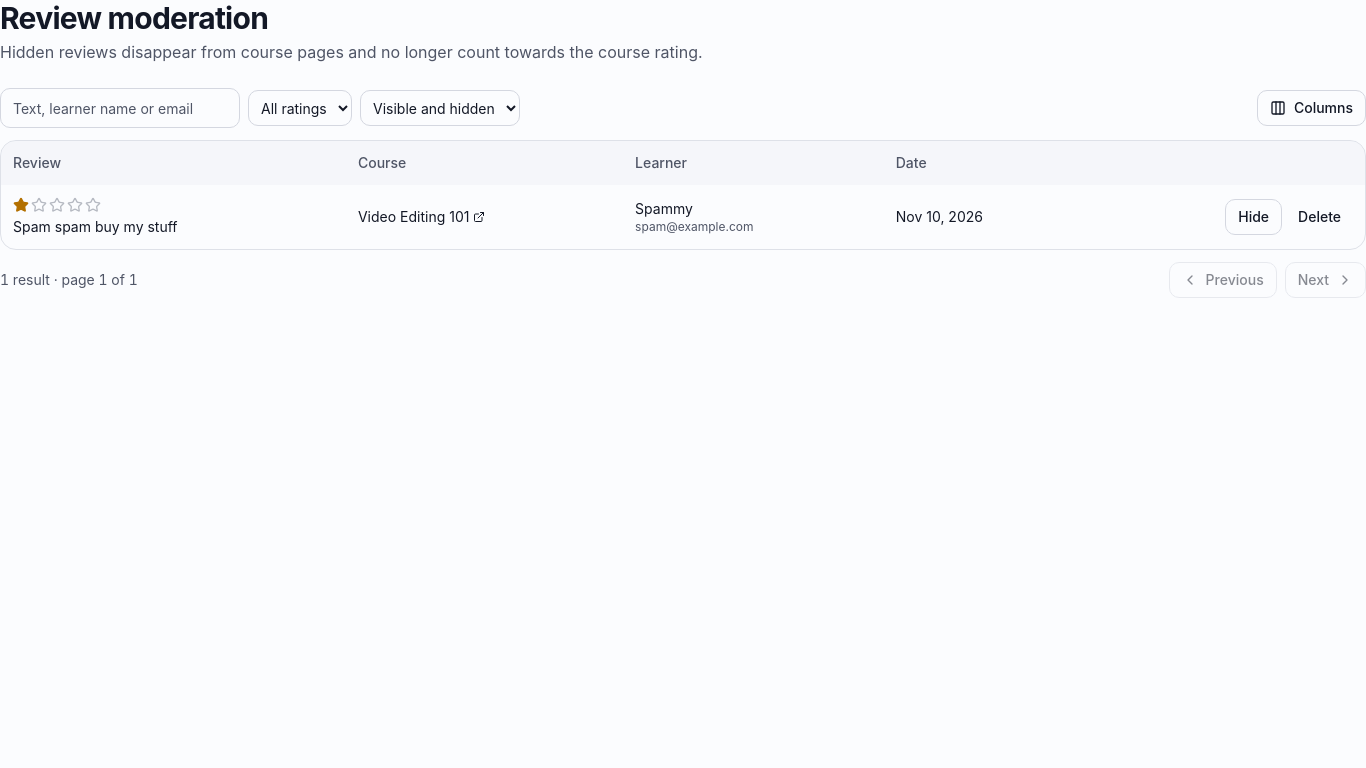
Test: review moderation › requires a reason before hiding a review
Later steps or results of the test are not shown.
Expected: the text "Spam spam buy my stuff" is shown, [13, 218, 178, 235]
What coordinates should you click on to do the following:
click the button "Hide"
I would click on:
 (1254, 217)
Its box is [1225, 199, 1282, 235].
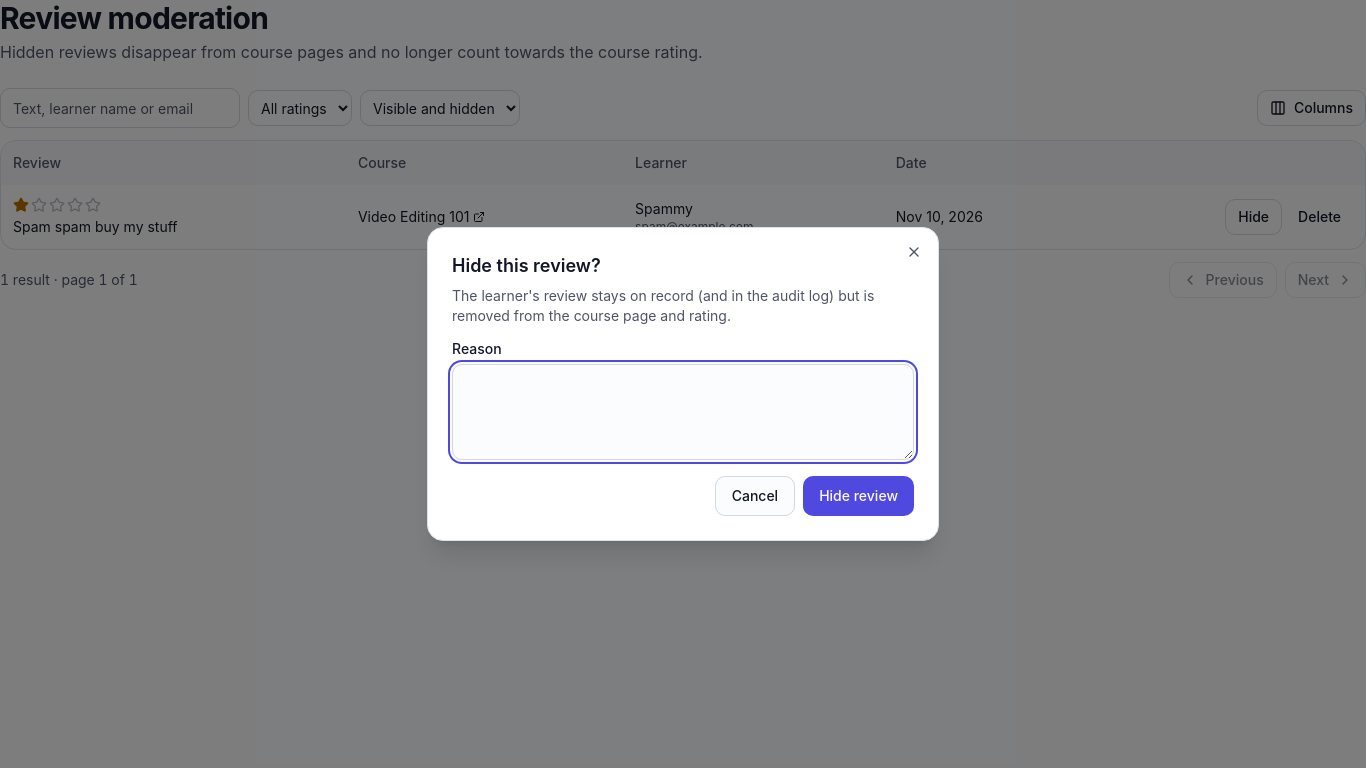
What coordinates should you click on to do the following:
click the button "Hide review"
I would click on:
 (859, 496)
Its box is [803, 476, 914, 516].
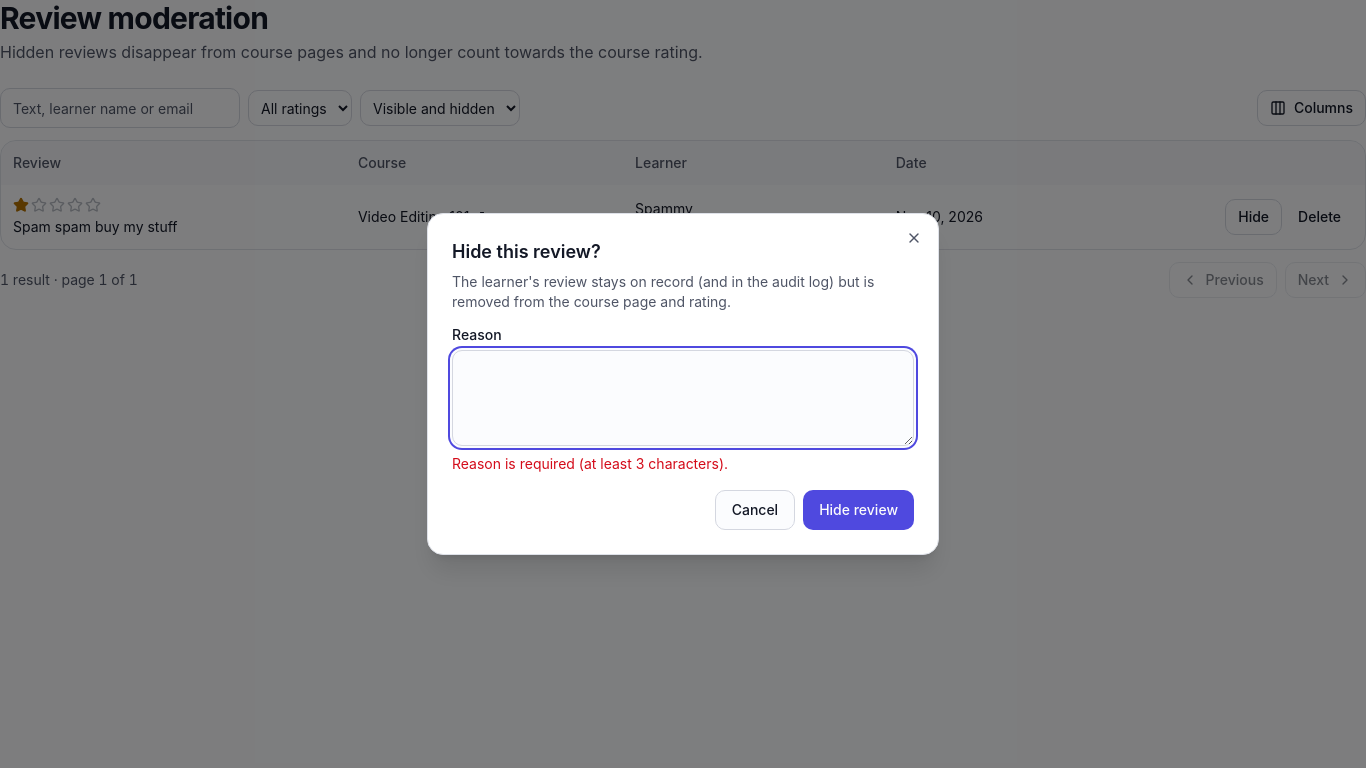
Expected: the message shows "Reason is required", [452, 455, 728, 472]
